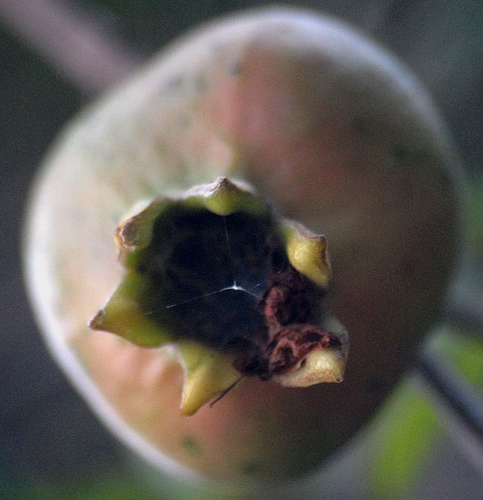pomogranate: (18, 5, 465, 496)
